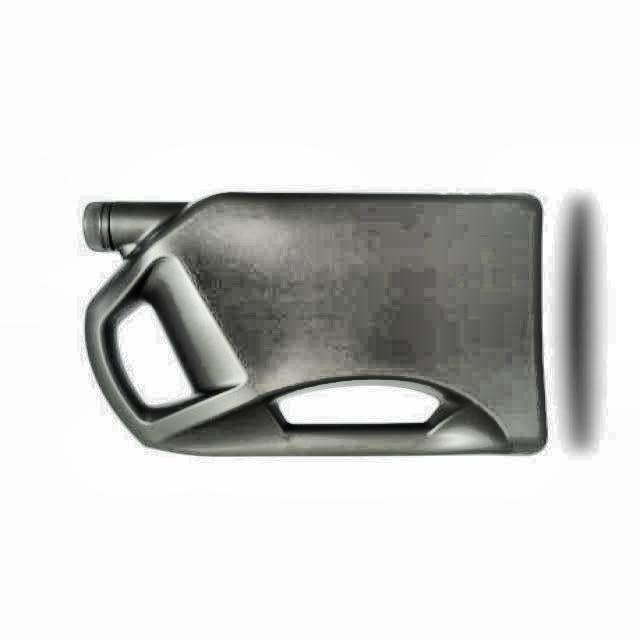plastic: (82, 192, 548, 456)
